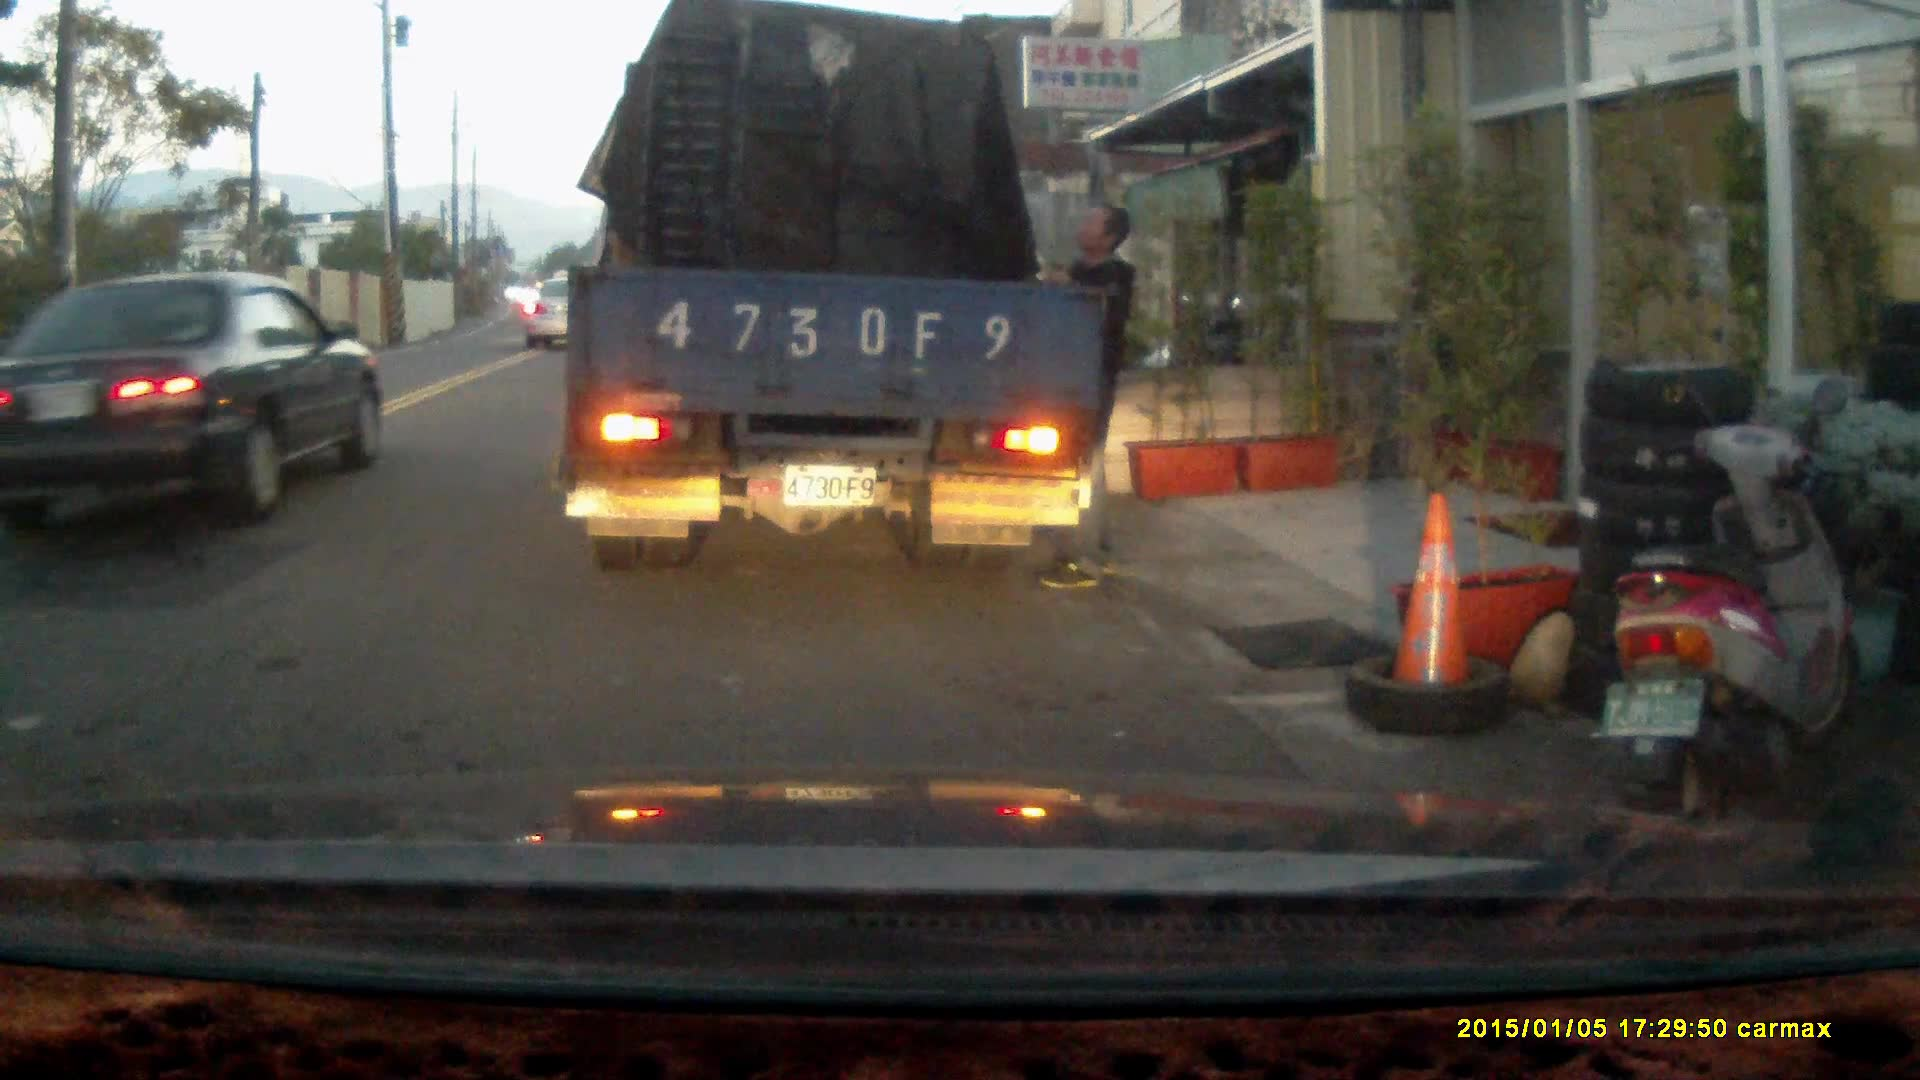pedestrian: (1023, 200, 1138, 590)
vehicle: (565, 23, 1097, 572), (1, 270, 389, 534), (521, 273, 601, 352)
